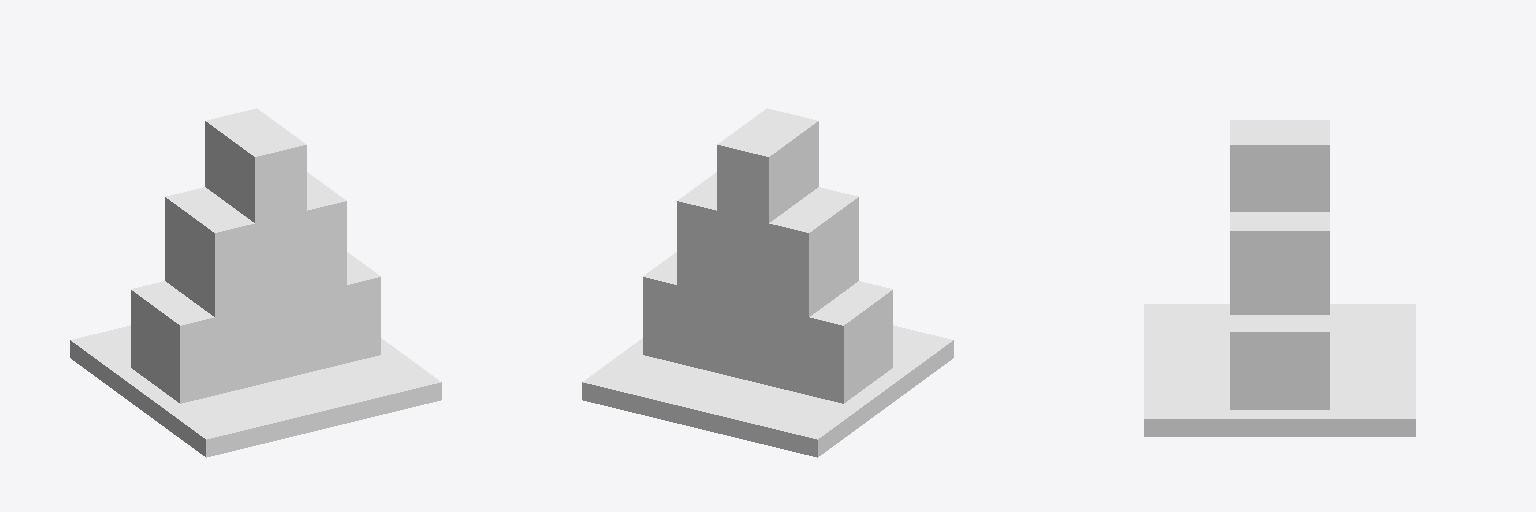
File: pincho1.obj
The picture shows the model from 3 angles: view 1: azimuth 30°, elevation 25°; view 2: azimuth 150°, elevation 25°; view 3: azimuth 270°, elevation 25°; orthographic projection.
Parts seen in each view (by area): view 1: object 1; view 2: object 1; view 3: object 1.
Part boxes in pixels (x1,y1,x2,y2): object 1: (70, 108, 441, 457); object 1: (582, 108, 953, 457); object 1: (1144, 120, 1415, 436).
Size of the model in its own units: 4.1 by 4.1 by 4.1.